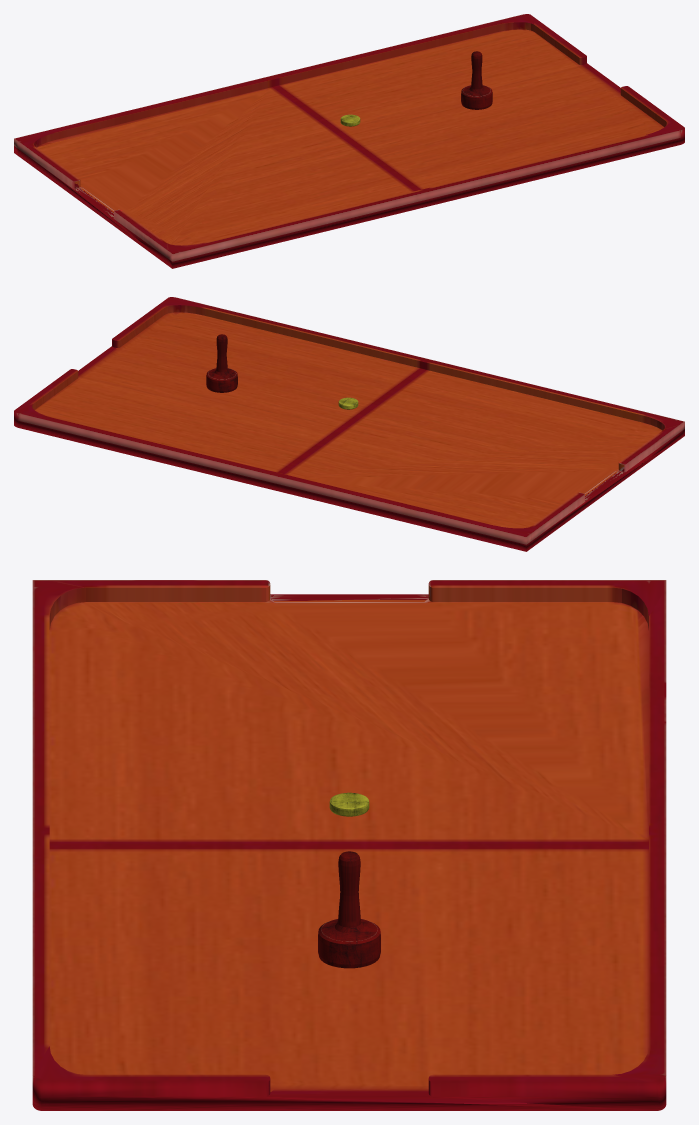
File: AirFinal.fbx
3 views of the same model, one above another, from view 1: azimuth 30°, elevation 25°; view 2: azimuth 150°, elevation 25°; view 3: azimuth 270°, elevation 25° (orthographic). The views are drawn at different scales.
Visible parts, largest first — view 1: Cube.013, Player1; view 2: Cube.013, Player1; view 3: Cube.013, Player1, Pallet.
Boxes of the visible parts, x1=… form: Cube.013: x1=14, y1=14, x2=684, y2=268; Player1: x1=461, y1=51, x2=492, y2=109; Cube.013: x1=14, y1=297, x2=684, y2=551; Player1: x1=206, y1=334, x2=237, y2=392; Cube.013: x1=32, y1=580, x2=666, y2=1110; Player1: x1=318, y1=851, x2=380, y2=968; Pallet: x1=329, y1=792, x2=369, y2=816.
Size of the model in its own units: 1500 by 180 by 800.
3 materials, 3 textured.
